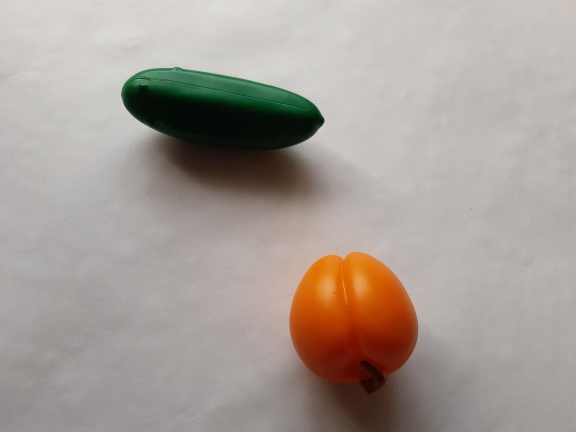apricot: (281, 239, 423, 400)
cucumber: (112, 60, 344, 171)
